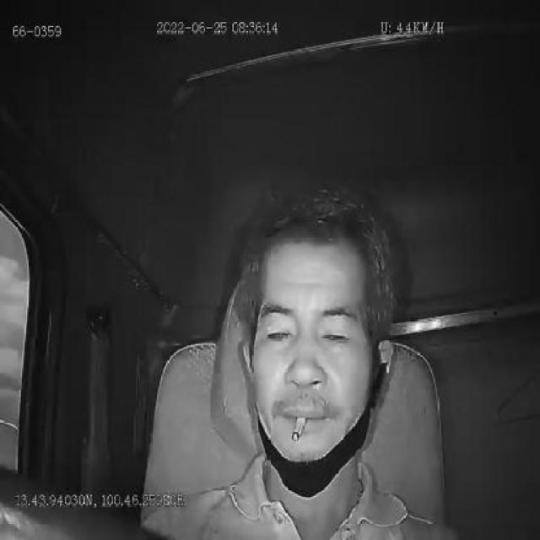smoking: (292, 415, 305, 444)
